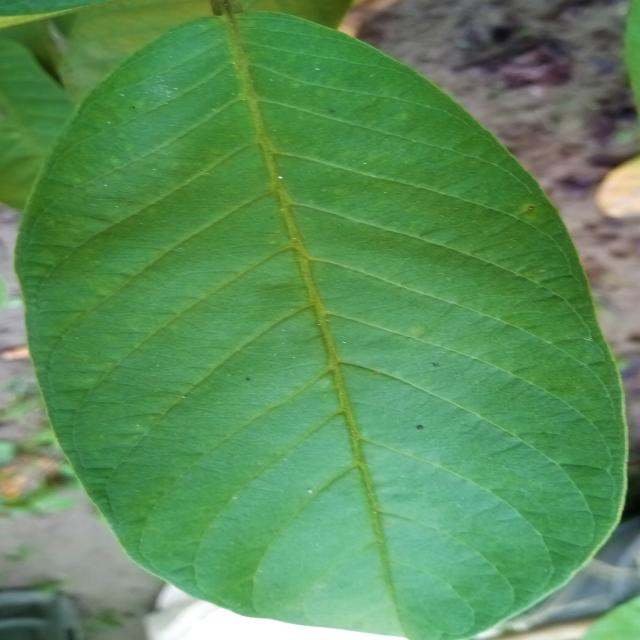Disease Free: (17, 11, 625, 640)
